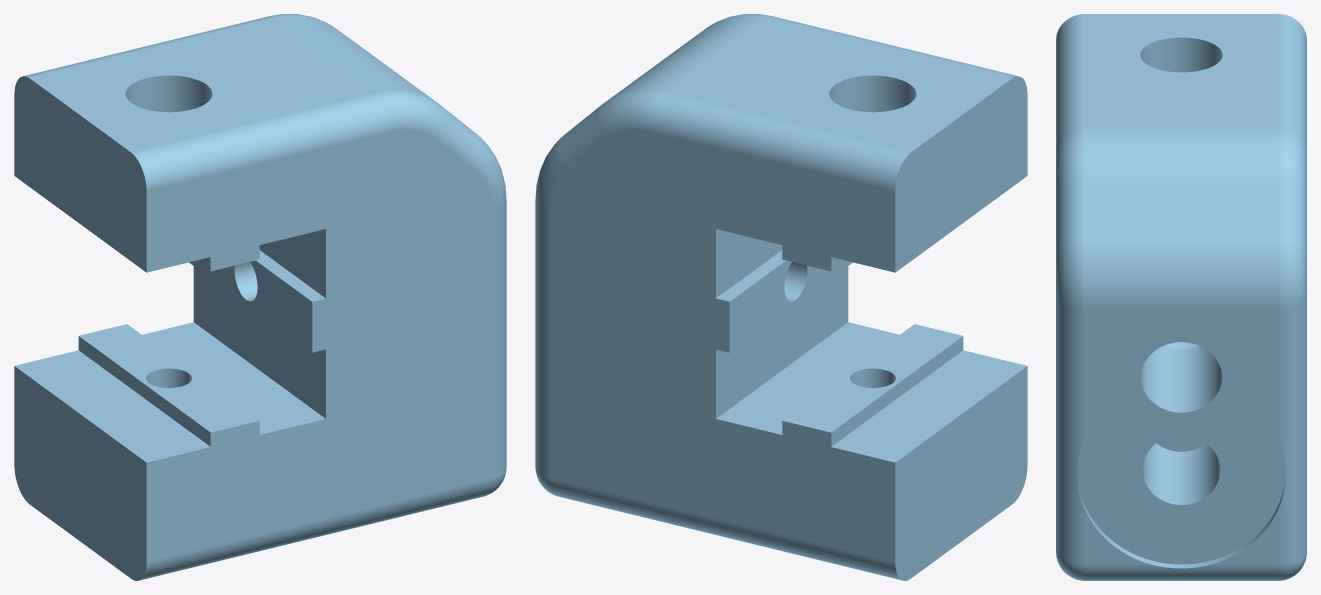
The model's file is pizza_caster_joint.dae.
The picture shows the model from 3 angles, left to right: view 1: azimuth 30°, elevation 25°; view 2: azimuth 150°, elevation 25°; view 3: azimuth 270°, elevation 25°; orthographic projection. The views are drawn at different scales.
Visible parts, largest first — view 1: Part 1; view 2: Part 1; view 3: Part 1.
Part boxes in pixels (x1,y1,x2,y2): Part 1: (14, 14, 506, 580); Part 1: (535, 14, 1027, 580); Part 1: (1056, 14, 1306, 580).
Size of the model in its own units: 0.0419 by 0.0259 by 0.046.
